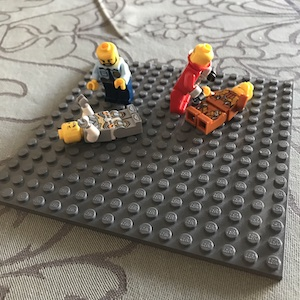Lego: (55, 101, 143, 151), (182, 79, 256, 135), (168, 42, 217, 115), (88, 41, 133, 108)
